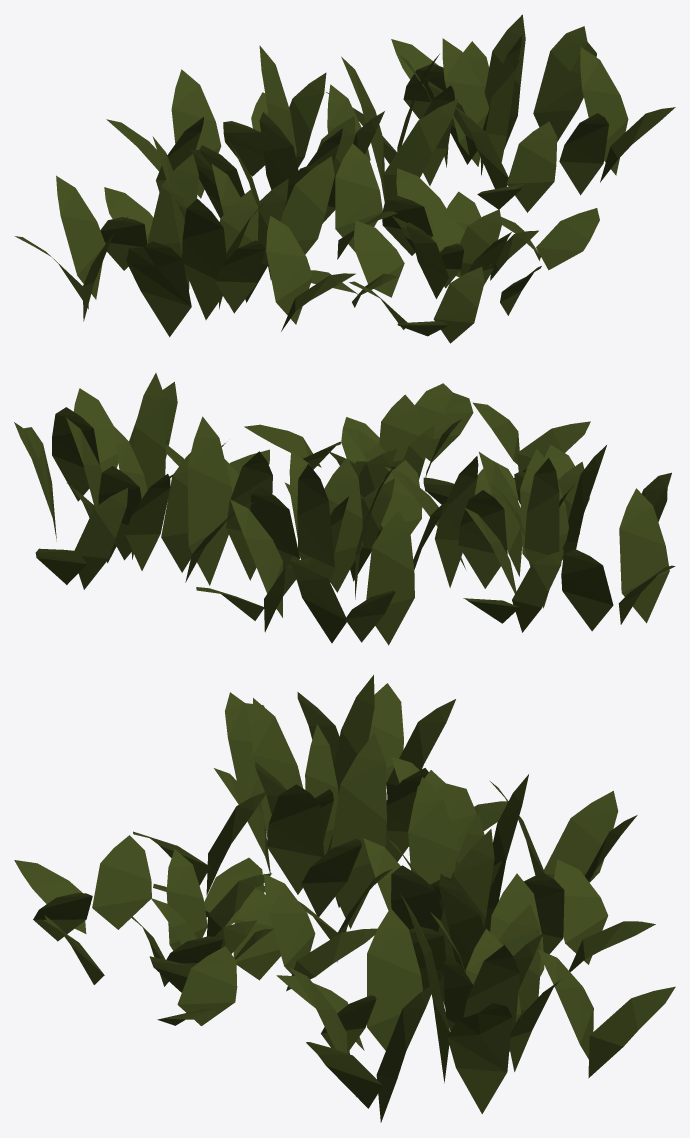
Rendered from SM_Grass_Thick_B.fbx.
3 renders of one model, top to bottom at view 1: azimuth 30°, elevation 25°; view 2: azimuth 150°, elevation 25°; view 3: azimuth 270°, elevation 25°, orthographic. The views are drawn at different scales.
Visible parts, largest first — view 1: grass-thick-b; view 2: grass-thick-b; view 3: grass-thick-b.
Part boxes in pixels (x1,y1,x2,y2): grass-thick-b: (14, 14, 675, 343); grass-thick-b: (14, 373, 675, 645); grass-thick-b: (14, 675, 675, 1122).
Bounding box in the file's own units: 1.45 × 0.3701 × 1.13.
